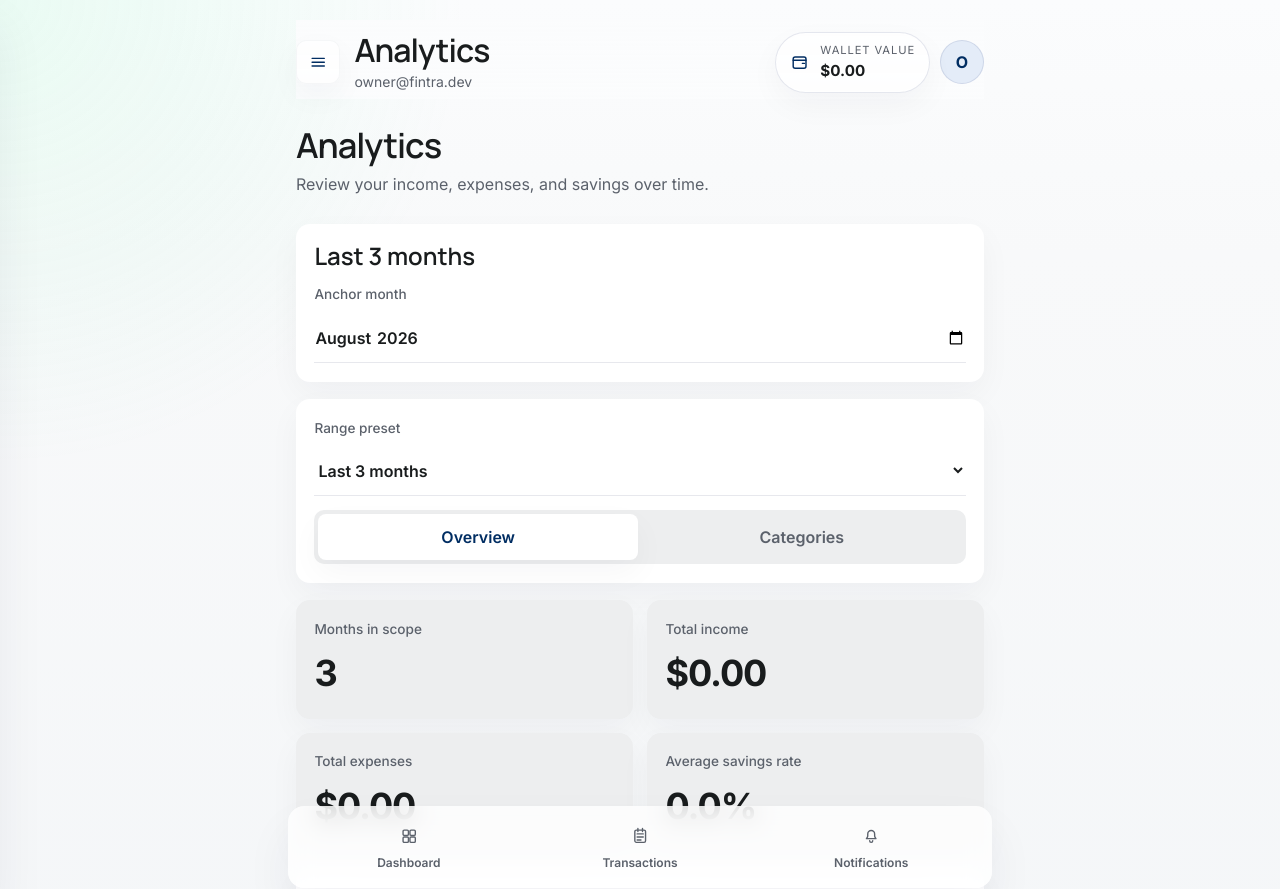
Fintra smoke flows › completes the analytics route smoke flow
The image size is (1280, 889).
Expected: the 1st heading "Analytics" is shown, top-left (354, 28), bottom-right (489, 72)
Replace the text in the field labelled "Anchor month" with "2026-03" at (640, 337), box top-left (314, 312), bottom-right (966, 363)
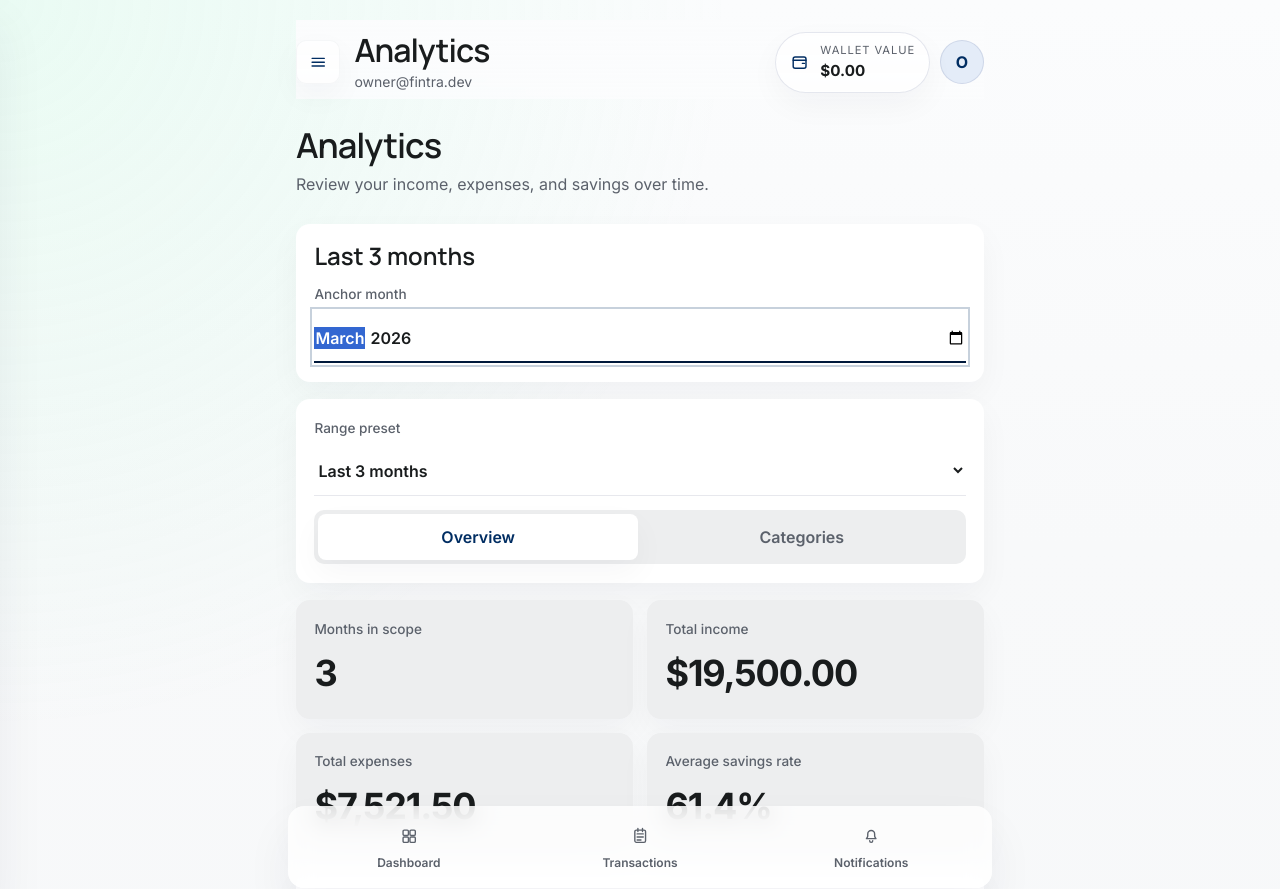
Select "Custom range" in the dropdown labelled "Range preset" at (640, 470), box top-left (314, 445), bottom-right (966, 496)
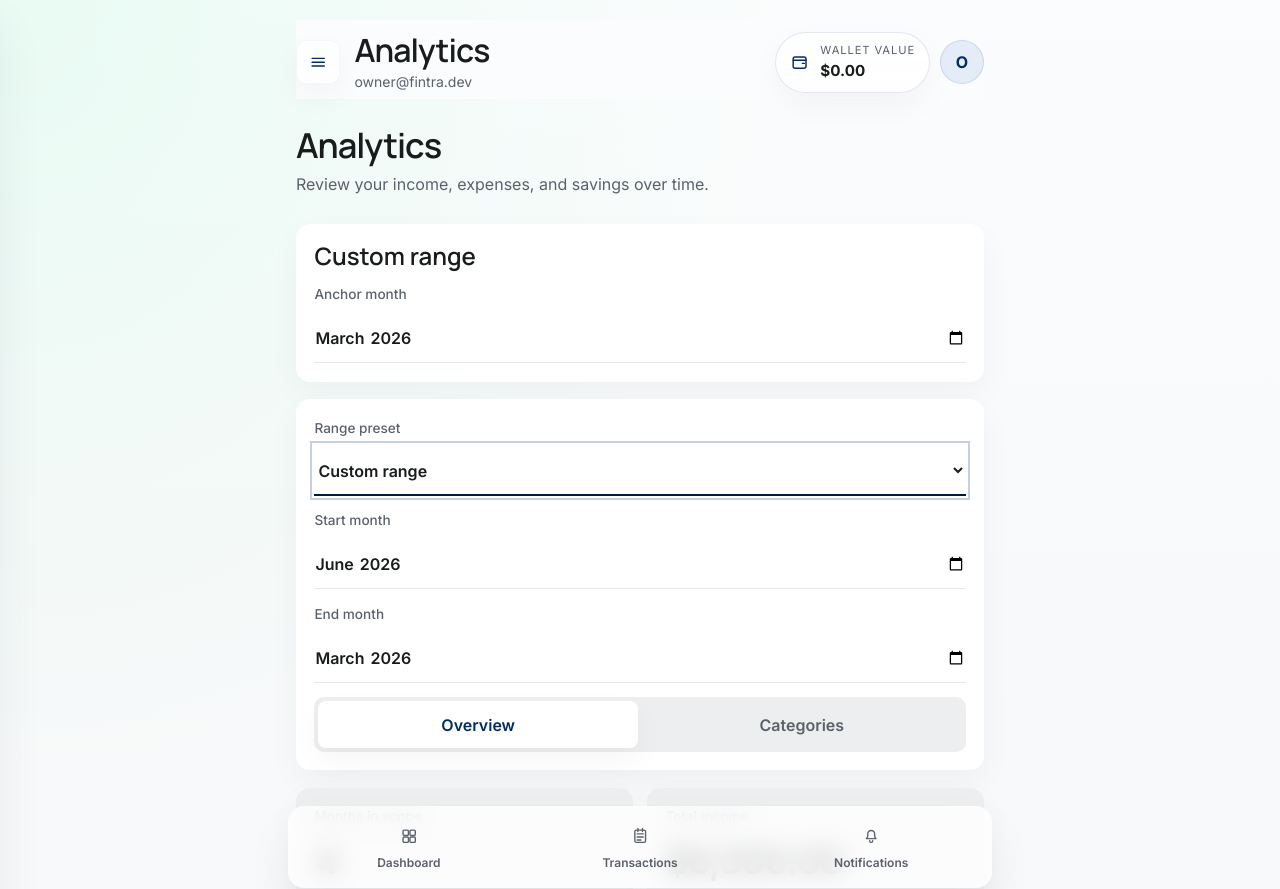
Result: the field labelled "Start month" is shown at top-left (314, 538), bottom-right (966, 589)
Result: the field labelled "End month" is shown at top-left (314, 631), bottom-right (966, 683)
Click the tab "Categories" at (802, 725), box top-left (642, 702), bottom-right (962, 748)
(page scrolled)
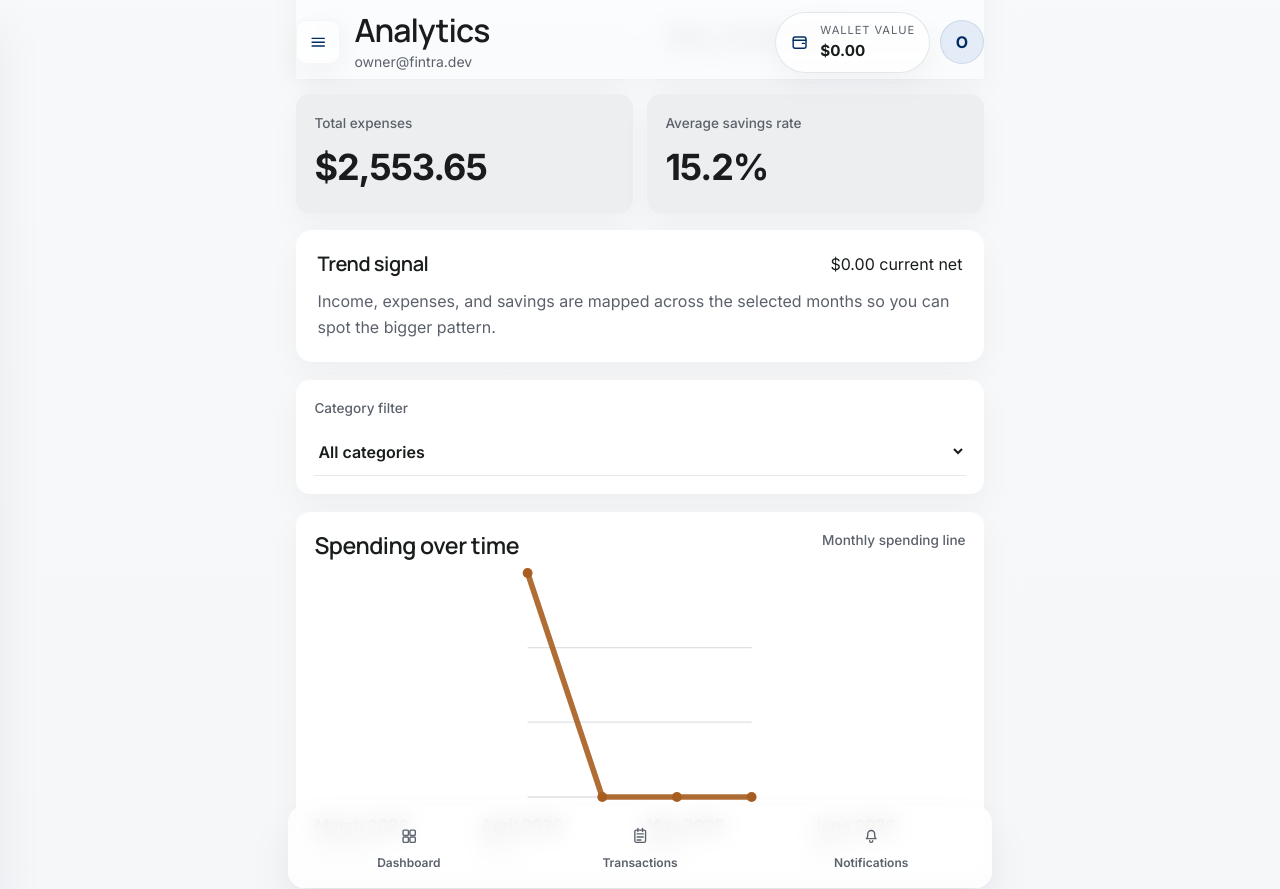
Result: the dropdown labelled "Category filter" is shown
Select "Food and dining" in the dropdown labelled "Category filter" at (640, 451), box top-left (314, 426), bottom-right (966, 476)
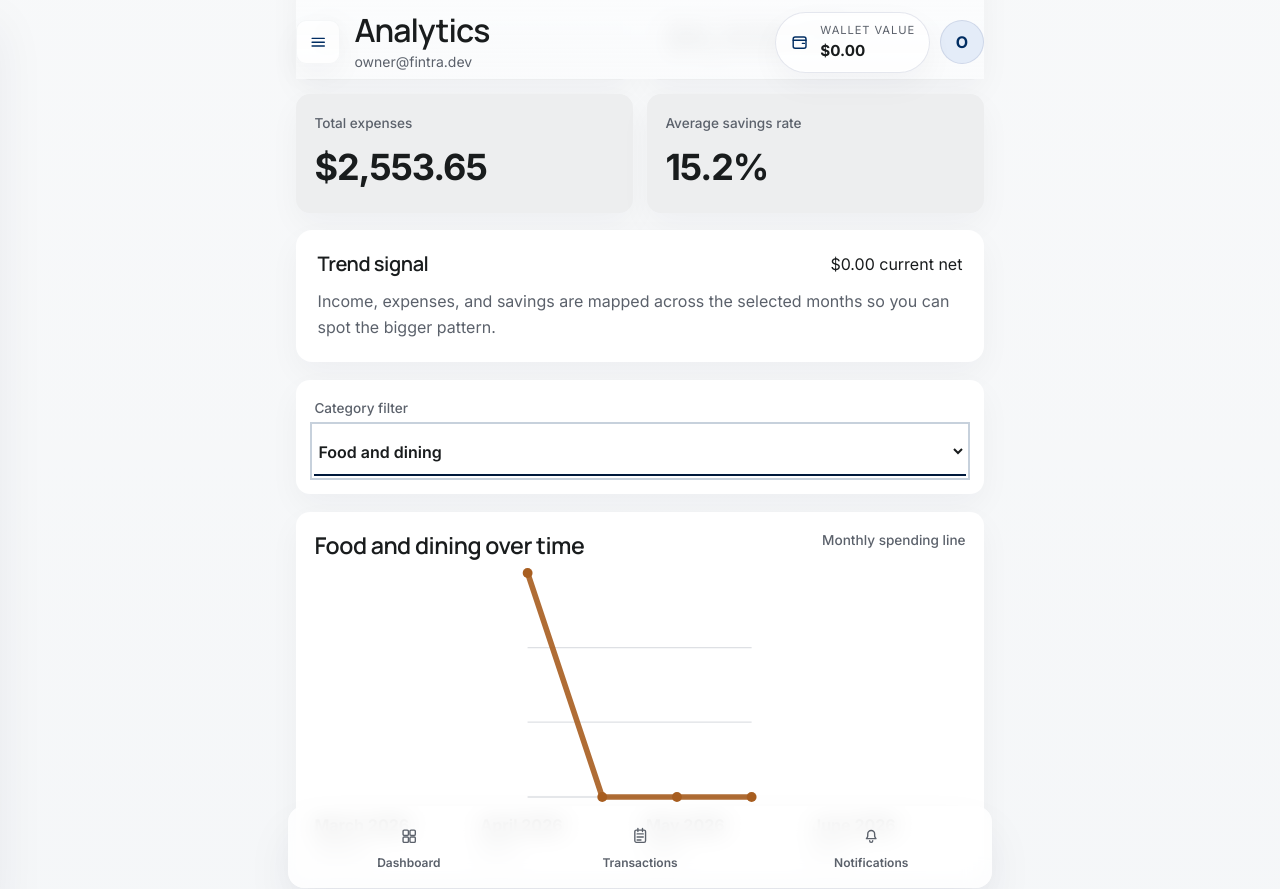
Result: the heading "Food and dining over time" is shown at top-left (314, 532), bottom-right (584, 559)
